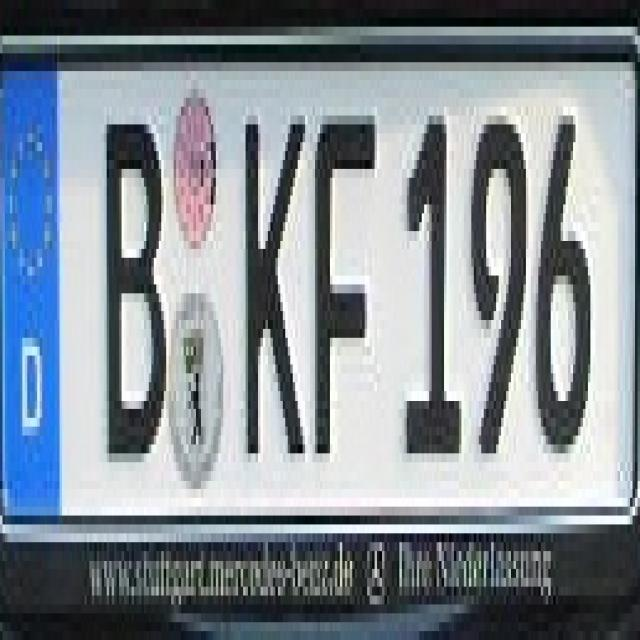1: (399, 116, 469, 453)
6: (538, 107, 596, 462)
9: (476, 107, 526, 462)
B: (99, 107, 169, 462)
F: (310, 107, 377, 462)
K: (243, 98, 305, 453)
